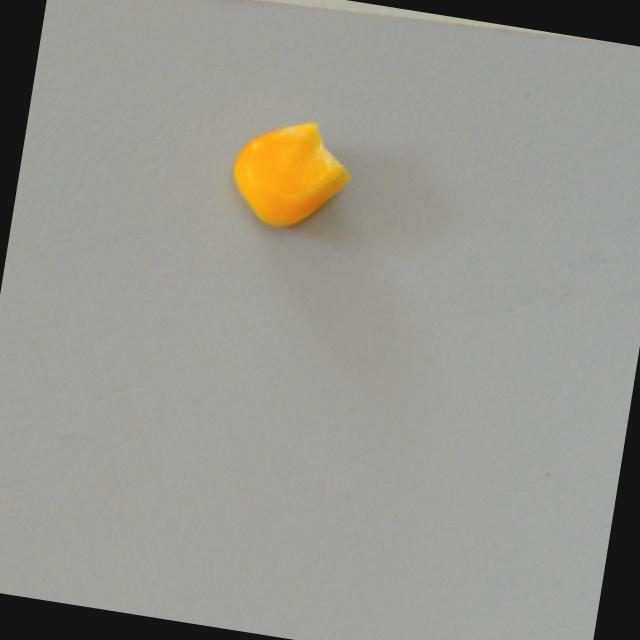no_canjicado: (226, 110, 360, 239)
